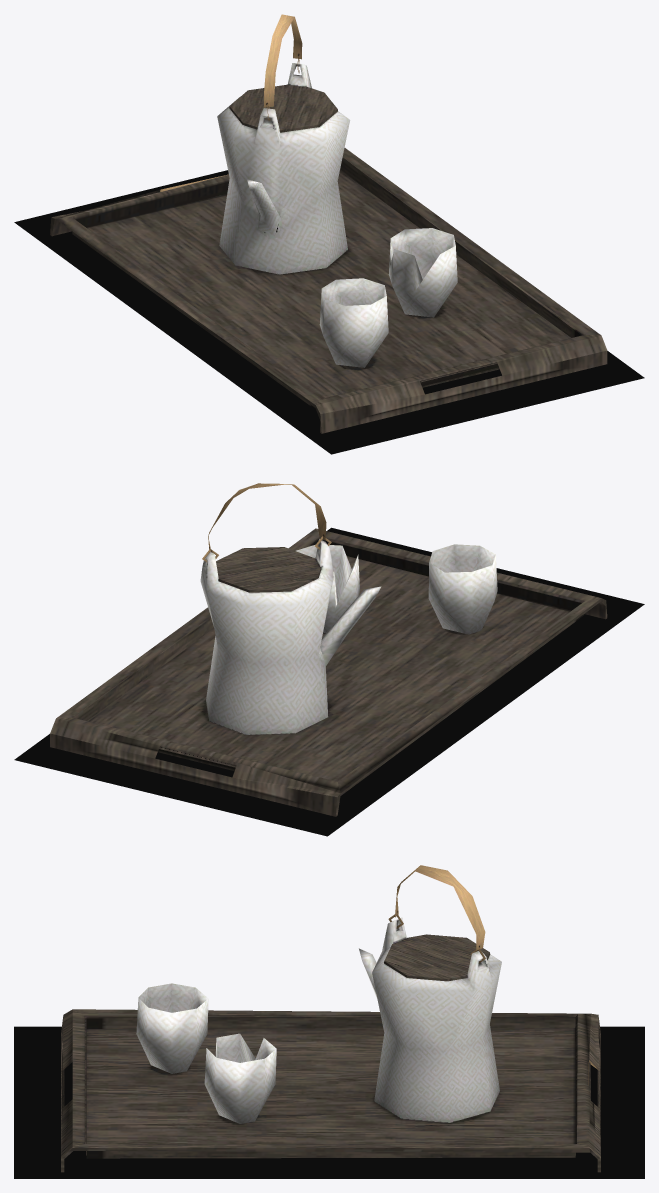
The model's file is jj_rixi_chahu02.FBX.
3 renders of one model, top to bottom at view 1: azimuth 30°, elevation 25°; view 2: azimuth 150°, elevation 25°; view 3: azimuth 270°, elevation 25°, orthographic.
Visible parts, largest first — view 1: jj_rixi_chahu01; view 2: jj_rixi_chahu01; view 3: jj_rixi_chahu01.
Part boxes in pixels (x1,y1,x2,y2): jj_rixi_chahu01: [14, 14, 644, 454]; jj_rixi_chahu01: [14, 483, 644, 836]; jj_rixi_chahu01: [14, 865, 644, 1178].
Bounding box in the file's own units: 36.54 × 26.7 × 64.05.
